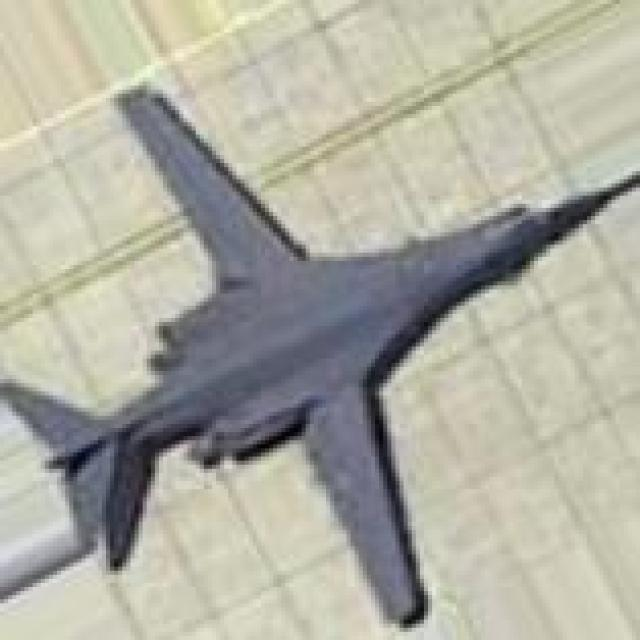B-1_TopDown: (0, 73, 636, 628)
